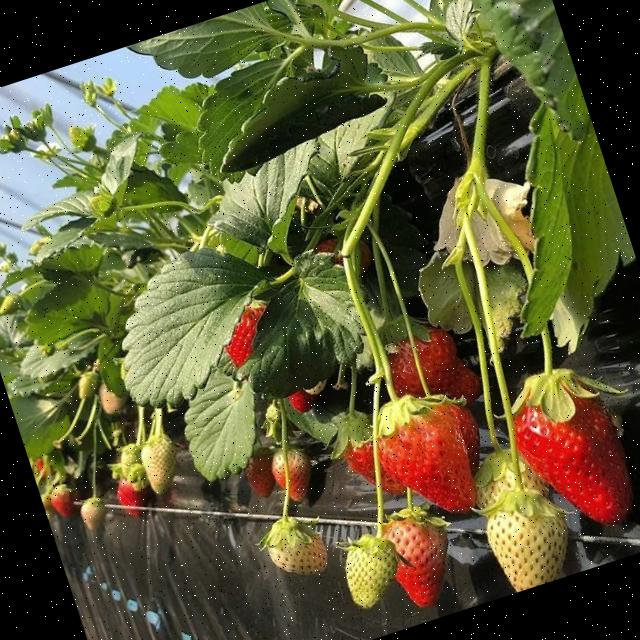Ripe Strawberry: (505, 378, 640, 540), (368, 394, 502, 528), (340, 428, 410, 506), (386, 328, 462, 398), (219, 303, 280, 368), (440, 359, 484, 406), (242, 450, 278, 501), (113, 481, 143, 519), (316, 233, 352, 262), (50, 484, 76, 518), (288, 389, 315, 415), (32, 456, 46, 475)
